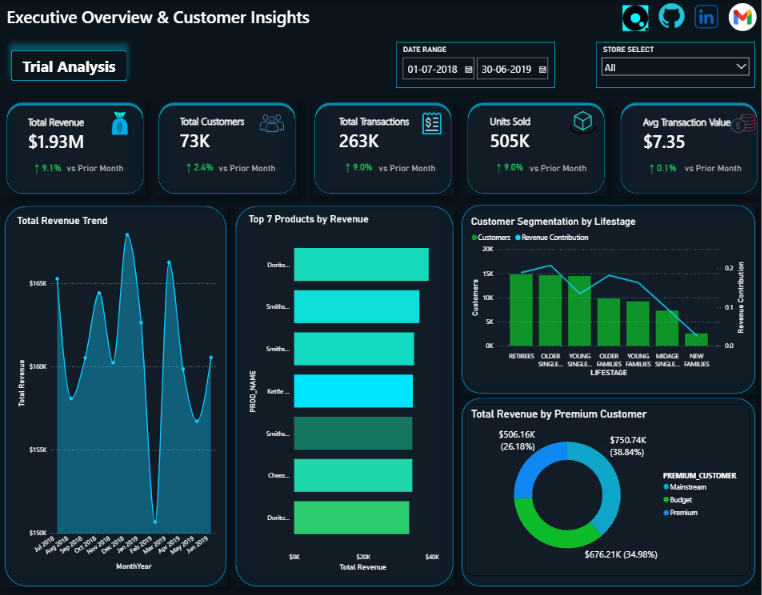

The dashboard page shown, as its layout file describes it:
{"tool":"powerbi","page":{"name":"Overview","canvas":[1470,1150],"ordinal":0},"visuals":[{"type":"textbox","box":[7.2,8.4,593.6,54.3],"z":0},{"type":"actionButton","box":[22.1,97.9,223.4,59.3],"z":1000},{"type":"slicer","fields":{"Values":["Fact_Transactions.STORE_NBR"]},"box":[1148.7,82.7,306.1,88.3],"z":2000},{"type":"slicer","fields":{"Values":["Dim_Date.Date"]},"box":[762.6,82.7,306.1,88.3],"z":3000},{"type":"shape","box":[600.8,199.1,273.9,181],"z":4000},{"type":"shape","box":[300.4,199.1,273.9,181],"z":5000},{"type":"shape","box":[7.2,199.1,273.9,181],"z":6000},{"type":"shape","box":[895.2,199.1,273.9,181],"z":7000},{"type":"shape","box":[1191.2,198.5,273.5,180.5],"z":8000},{"type":"cardVisual","fields":{"Data":["Fact_Transactions.Total Transactions"]},"box":[624.7,211,220.6,154.4],"z":9000},{"type":"cardVisual","fields":{"Data":["Fact_Transactions.Units Sold"]},"box":[915.6,211,220.6,154.4],"z":10000},{"type":"cardVisual","fields":{"Data":["Fact_Transactions.Total Customers"]},"box":[317.2,211,220.6,154.4],"z":11000},{"type":"cardVisual","fields":{"Data":["Fact_Transactions.Total Revenue"]},"box":[24.8,212.4,220.6,154.4],"z":12000},{"type":"textbox","box":[723.8,309.8,132.2,34.7],"z":13000},{"type":"textbox","box":[416.6,309.8,132.2,34.7],"z":14000},{"type":"textbox","box":[122.9,309.8,133.5,34.7],"z":15000},{"type":"cardVisual","fields":{"Data":["Fact_Transactions.Avg Transaction Value"]},"box":[1210.8,212.4,234.4,154.4],"z":16000},{"type":"textbox","box":[1014.9,309.8,133.5,34.7],"z":17000},{"type":"textbox","box":[1314,309.8,132.2,34.7],"z":18000},{"type":"image","box":[1396.9,8.3,67.6,53.8],"z":19000},{"type":"image","box":[1328,4.1,67.6,59.3],"z":20000},{"type":"image","box":[1260.4,2.8,67.6,59.3],"z":21000},{"type":"image","box":[1191.4,11,67.6,49.6],"z":22000},{"type":"image","box":[206.8,212.4,49.6,53.8],"z":23000},{"type":"image","box":[499.2,212.4,49.6,53.8],"z":24000},{"type":"image","box":[1099.1,212.4,49.6,53.8],"z":25000},{"type":"image","box":[806.7,212.4,49.6,53.8],"z":26000},{"type":"image","box":[1406.6,213.7,49.6,53.8],"z":27000},{"type":"shape","box":[7.7,397,429.7,736.1],"z":28000},{"type":"lineChart","title":"Total Revenue Trend","fields":{"Y":["Fact_Transactions.Total Revenue"],"Category":["Dim_Date.MonthYear"]},"box":[23.1,410.4,404.7,701.4],"z":29000},{"type":"shape","box":[452.8,397,422,736.1],"z":30000},{"type":"clusteredBarChart","title":"Top 7 Products by Revenue","fields":{"Category":["Fact_Transactions.PROD_NAME"],"Y":["Fact_Transactions.Total Revenue"]},"box":[470.2,408.5,385.4,703.3],"z":31000},{"type":"shape","box":[888.3,395,568.5,366.1],"z":32000},{"type":"lineClusteredColumnComboChart","title":"Customer Segmentation by Lifestage","fields":{"Category":["Dim_Customer.LIFESTAGE"],"Y":["Fact_Transactions.Customers by Lifestage"],"Y2":["Fact_Transactions.Revenue Contribution %"]},"box":[896,410.4,551.1,329.5],"z":33000},{"type":"shape","box":[888.3,766.9,568.5,366.1],"z":34000},{"type":"donutChart","title":"Total Revenue by Premium Customer","fields":{"Category":["Dim_Customer.PREMIUM_CUSTOMER"],"Y":["Fact_Transactions.Total Revenue"]},"box":[896,780.4,549.2,331.4],"z":35000}]}

Visuals, with their boxes in screenshot pixels (x1, y1, x2, y2), scaled from the page's 1470x1150 canvas onto the 762x595 screenshot:
textbox: 4:4:311:32
actionButton: 11:51:127:81
slicer - Fact_Transactions.STORE_NBR: 595:43:754:88
slicer - Dim_Date.Date: 395:43:554:88
shape: 311:103:453:197
shape: 156:103:298:197
shape: 4:103:146:197
shape: 464:103:606:197
shape: 617:103:759:196
cardVisual - Fact_Transactions.Total Transactions: 324:109:438:189
cardVisual - Fact_Transactions.Units Sold: 475:109:589:189
cardVisual - Fact_Transactions.Total Customers: 164:109:279:189
cardVisual - Fact_Transactions.Total Revenue: 13:110:127:190
textbox: 375:160:444:178
textbox: 216:160:284:178
textbox: 64:160:133:178
cardVisual - Fact_Transactions.Avg Transaction Value: 628:110:749:190
textbox: 526:160:595:178
textbox: 681:160:750:178
image: 724:4:759:32
image: 688:2:723:33
image: 653:1:688:32
image: 618:6:653:31
image: 107:110:133:138
image: 259:110:284:138
image: 570:110:595:138
image: 418:110:444:138
image: 729:111:755:138
shape: 4:205:227:586
"Total Revenue Trend" lineChart: 12:212:222:575
shape: 235:205:453:586
"Top 7 Products by Revenue" clusteredBarChart: 244:211:444:575
shape: 460:204:755:394
"Customer Segmentation by Lifestage" lineClusteredColumnComboChart: 464:212:750:383
shape: 460:397:755:586
"Total Revenue by Premium Customer" donutChart: 464:404:749:575
